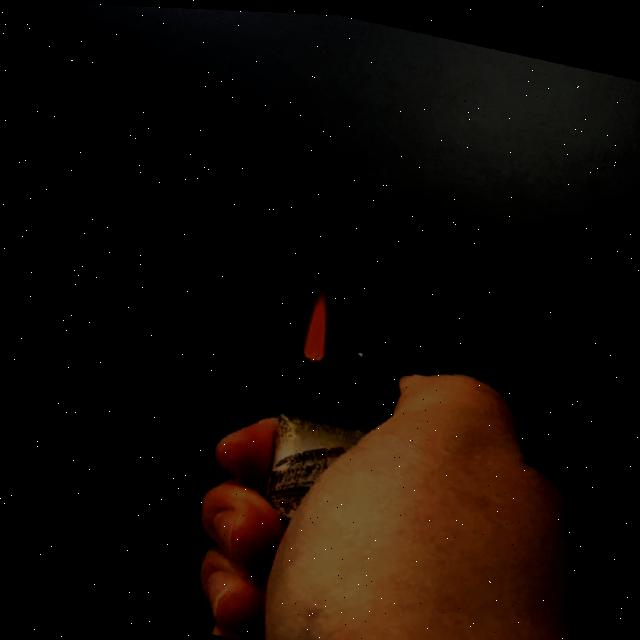Fire: (291, 270, 340, 362)
